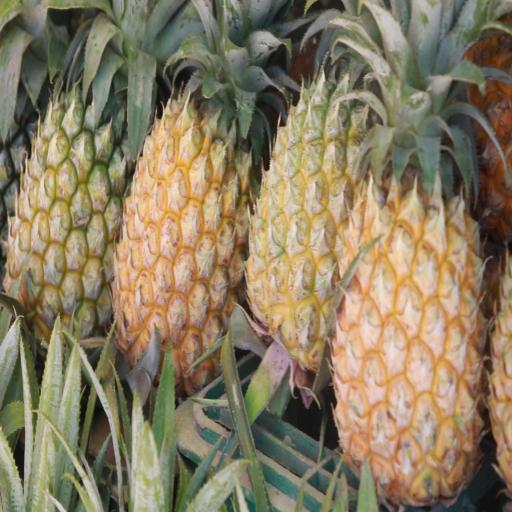------------------------------: (0, 0, 125, 354)
Pineapple - v8 v1: (331, 6, 488, 512), (112, 0, 253, 403), (243, 0, 375, 401)
